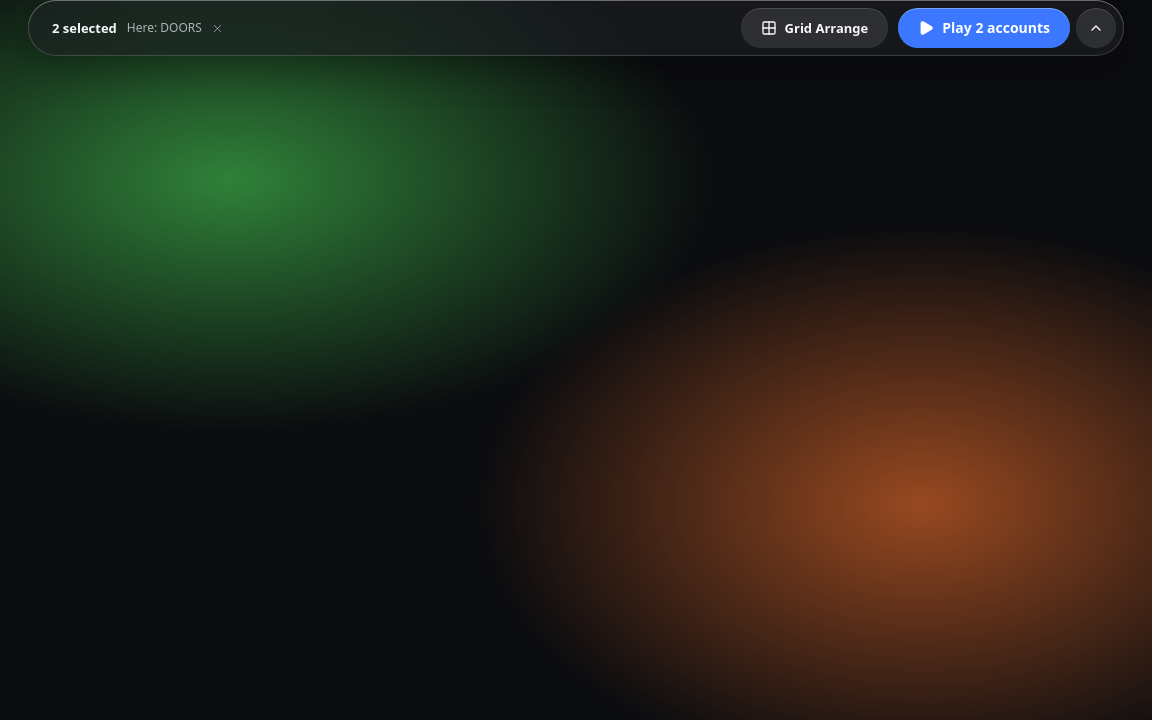
Scenario: capsule: counts, Cancel calls launch_cancel, focus moves and returns
The width and height of the screenshot is (1152, 720).
Later steps or results of the test are not shown.
Click the button "Play 2 accounts": (984, 28) [898,8,1070,48]
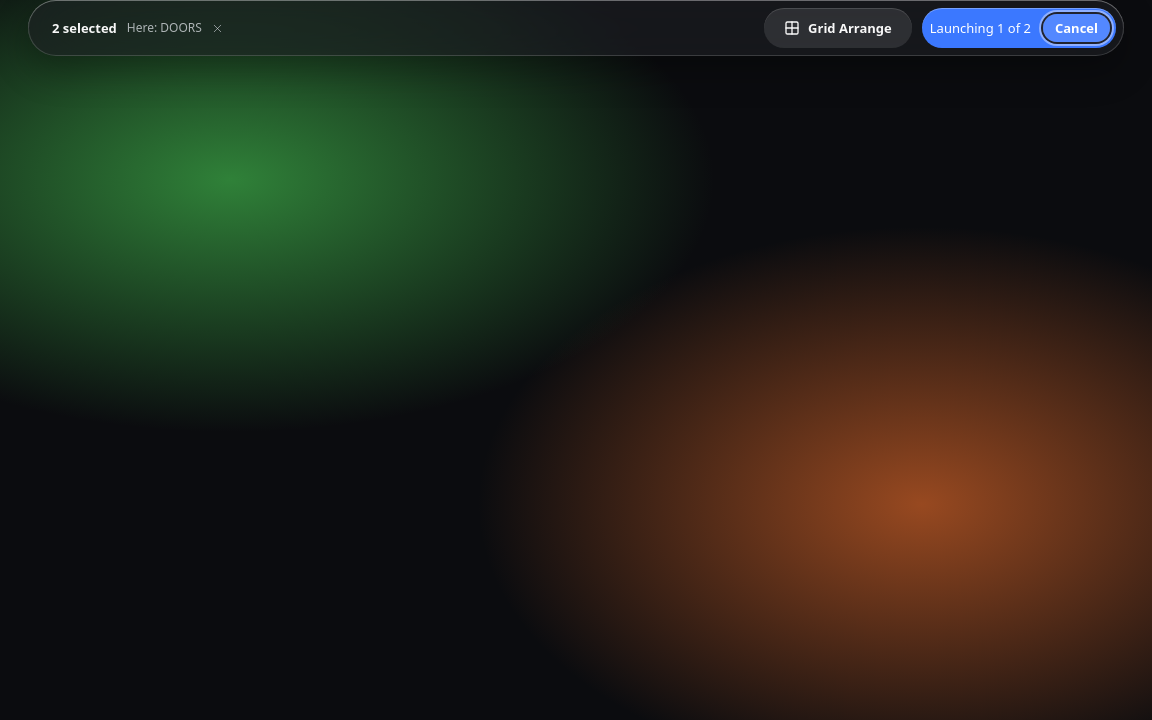
Expected: the text "Launching 1 of 2" is shown, [930,19,1031,37]
